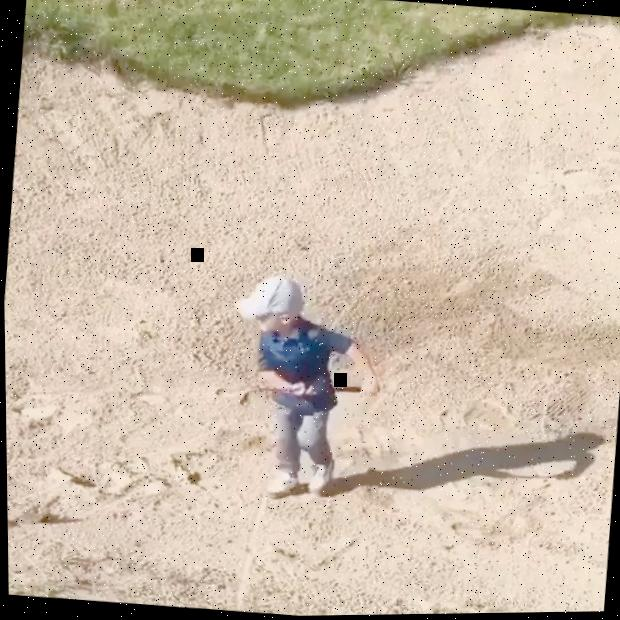ClubHead: (237, 391, 248, 407)
